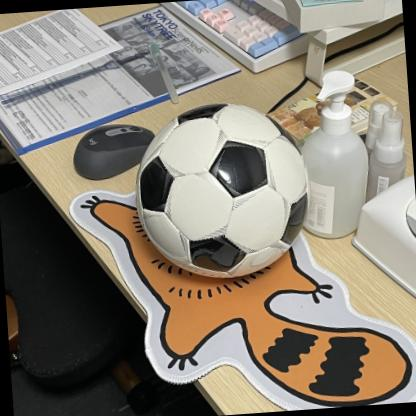ball: (132, 97, 314, 284), (132, 98, 314, 285)
